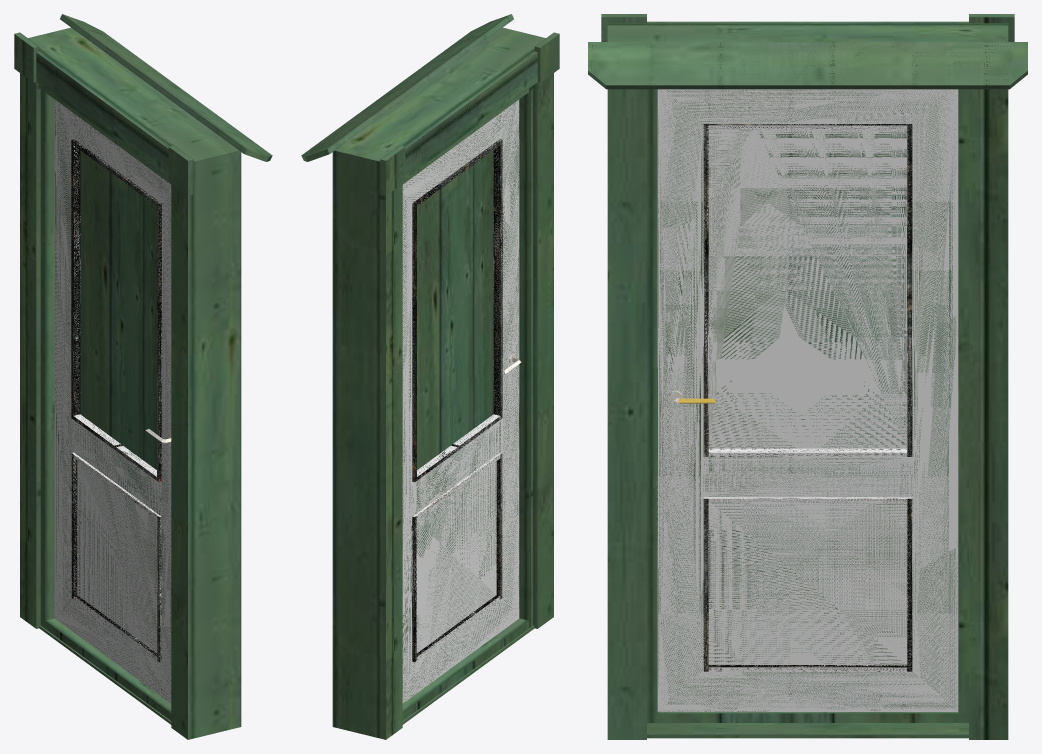
File: door.fbx
3 renders of one model, left to right at view 1: azimuth 30°, elevation 25°; view 2: azimuth 150°, elevation 25°; view 3: azimuth 270°, elevation 25°, orthographic. The views are drawn at different scales.
Visible parts, largest first — view 1: Group1, Group2; view 2: Group1, Group2; view 3: Group2, Group1.
Part boxes in pixels (x1=…): Group1: x1=14, y1=14, x2=272, y2=739; Group2: x1=54, y1=99, x2=171, y2=703; Group1: x1=301, y1=14, x2=559, y2=739; Group2: x1=402, y1=99, x2=521, y2=703; Group2: x1=657, y1=89, x2=958, y2=711; Group1: x1=588, y1=14, x2=1027, y2=739.
Bounding box in the file's own units: 0.334 × 2.15 × 1.23.
